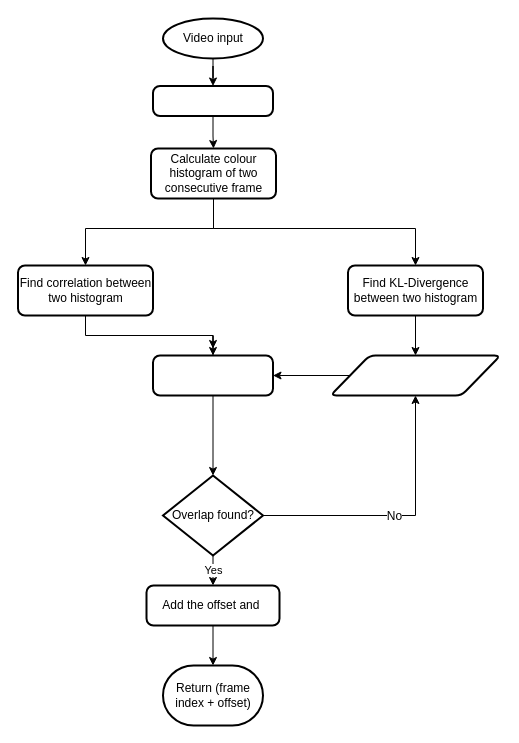
Some shapes in this 519 by 743 pixel diagram are drawn without their labels. Each missing label, with the centre of its shape:
"Amplify KL-Divergence difference." goes at point 415,375.
"Detect overlap in first 30 % of frame" goes at point 213,375.
"Read video frame" goes at point 213,100.
